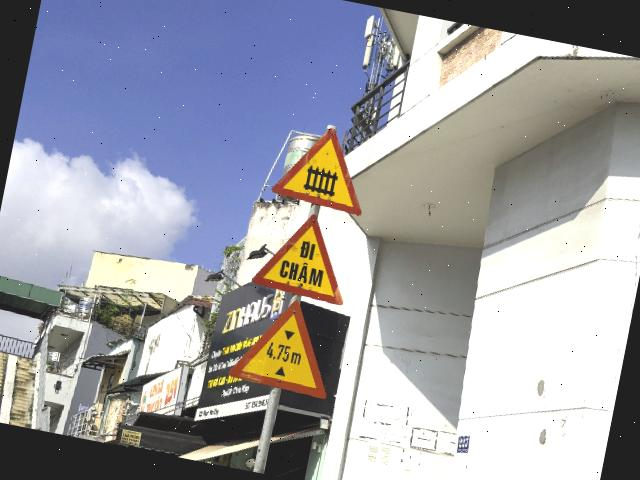chieu-cao-tinh-khong-thuc-te: (226, 290, 344, 398)
di-cham: (250, 205, 358, 306)
noi-giao-nhau-voi-duong-sat-co-rao-chan: (269, 118, 377, 216)
